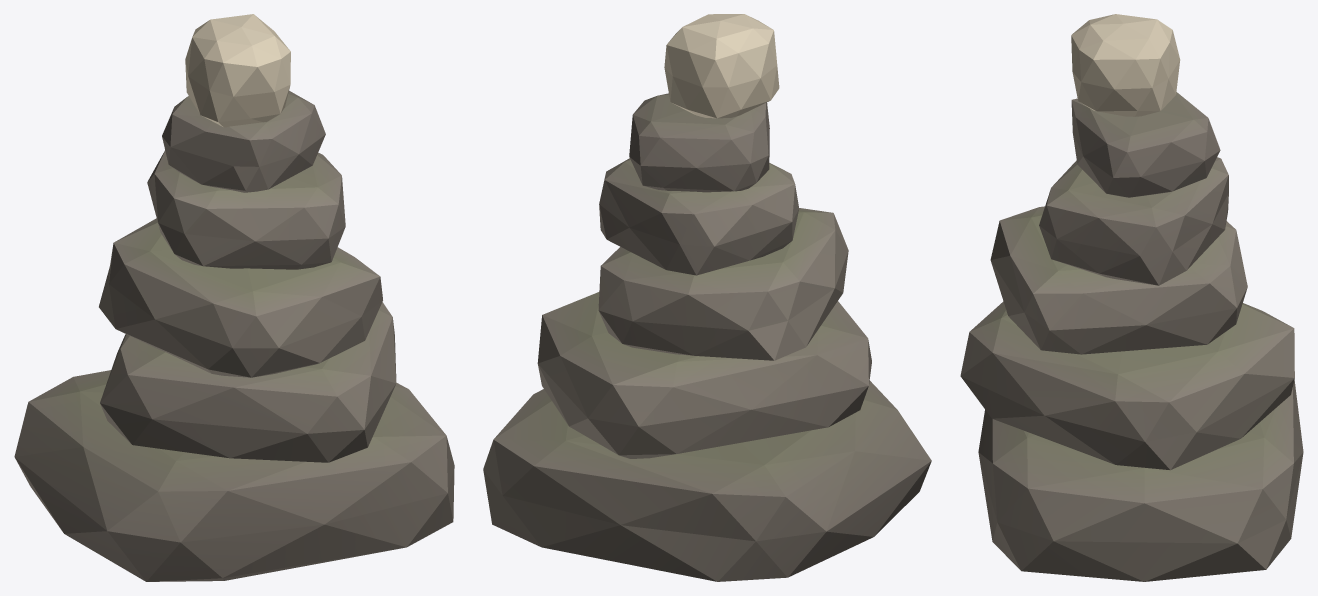
The model's file is cairn.glb.
3 views of the same model, side by side, from view 1: azimuth 30°, elevation 25°; view 2: azimuth 150°, elevation 25°; view 3: azimuth 270°, elevation 25° (orthographic). The views are drawn at different scales.
Visible parts, largest first — view 1: cairn; view 2: cairn; view 3: cairn.
Boxes of the visible parts, left/top/right/bottom form: cairn: left=14, top=14, right=454, bottom=581; cairn: left=483, top=14, right=931, bottom=581; cairn: left=960, top=14, right=1303, bottom=581.
Size of the model in its own units: 0.8062 by 1.08 by 0.7049.
